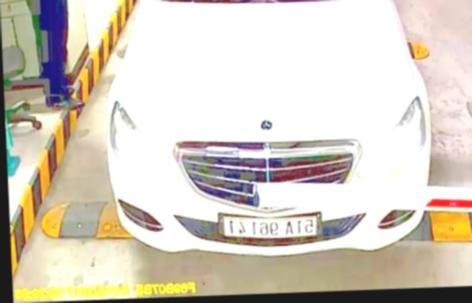License_Plate: (219, 207, 327, 241)
